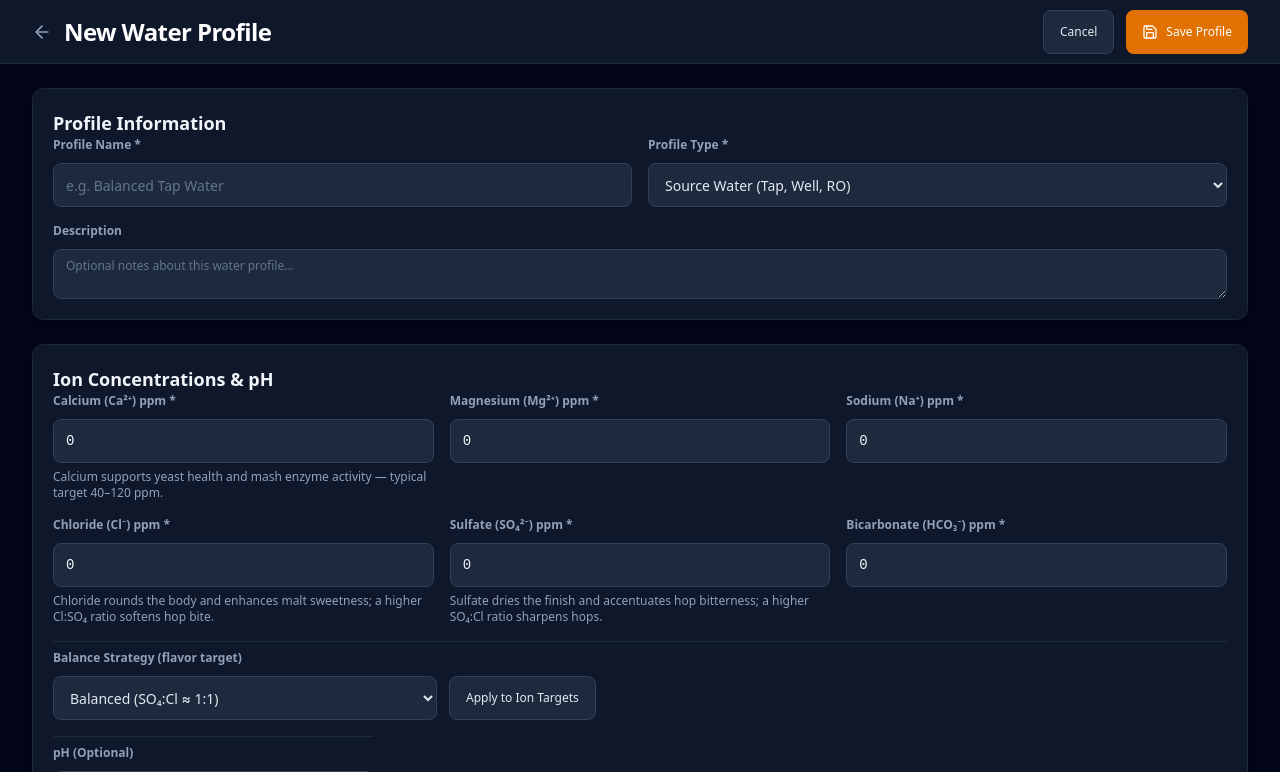
it: WaterProfileForm AC-37: Balance Strategy preset › applying Malty/Full sets a chloride-dominant ratio (Cl:SO4 ≈ 2:1)
Replace the text in the number field with test id "water-form-cl" with "100" at [243, 565], box [53,543,434,587]
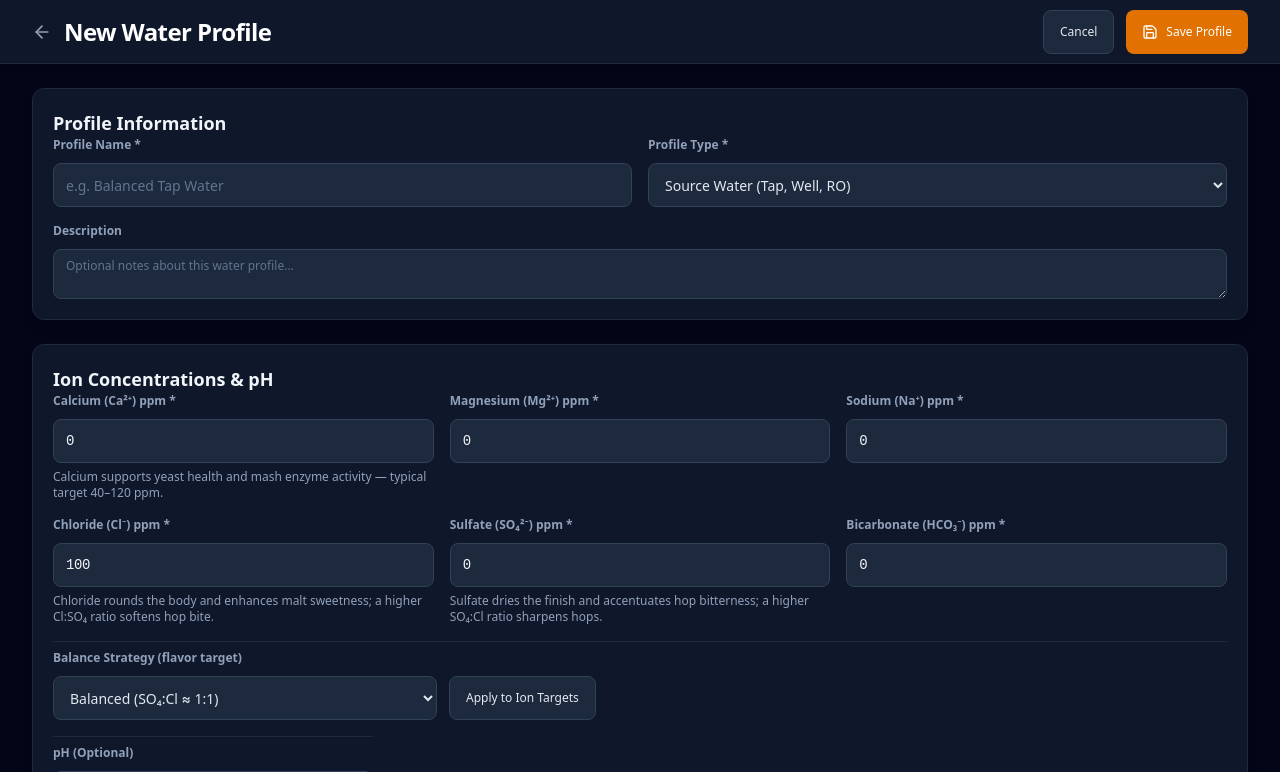
Select "Malty/Full (Cl:SO₄ ≈ 2:1)" in the dropdown with test id "water-form-strategy" at [245, 698], box [53,676,437,720]
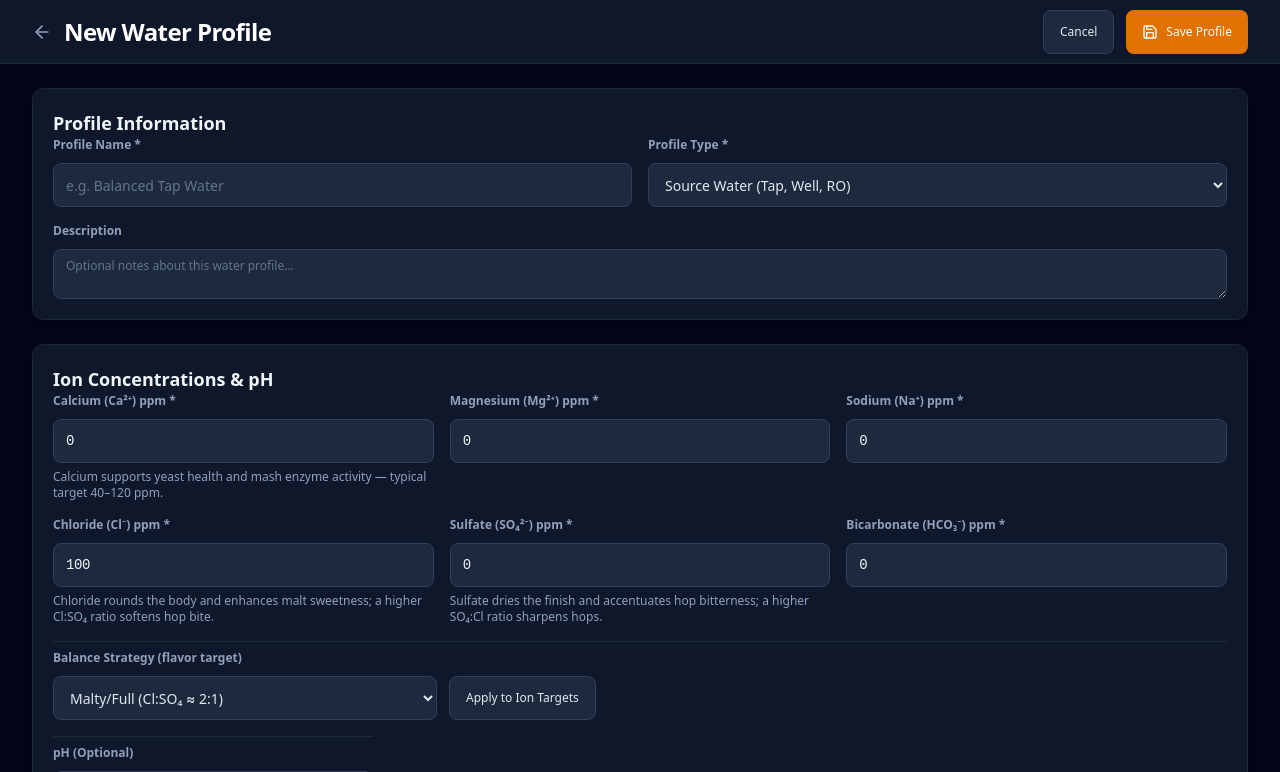
Click the button with test id "water-form-apply-strategy" at [522, 698], box [449,676,596,720]
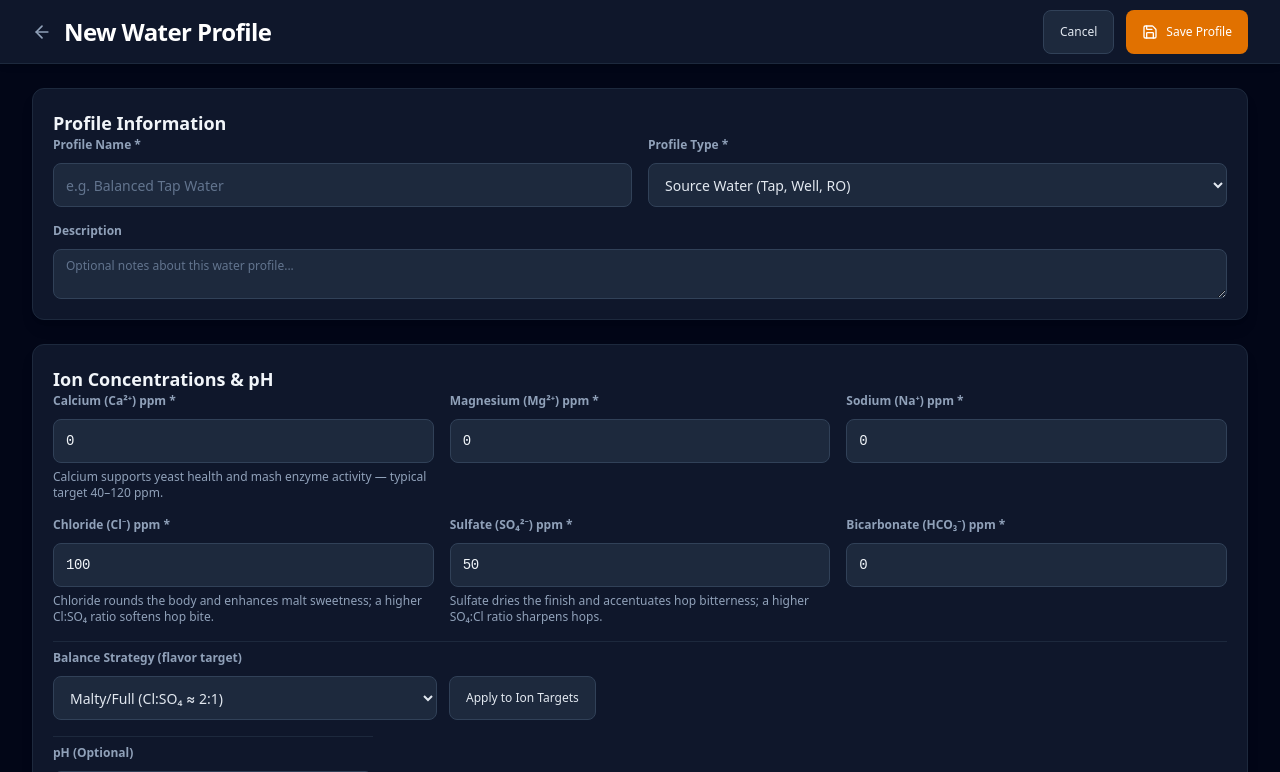
Check: the number field with test id "water-form-so4" holds "50", box [450,543,830,587]
